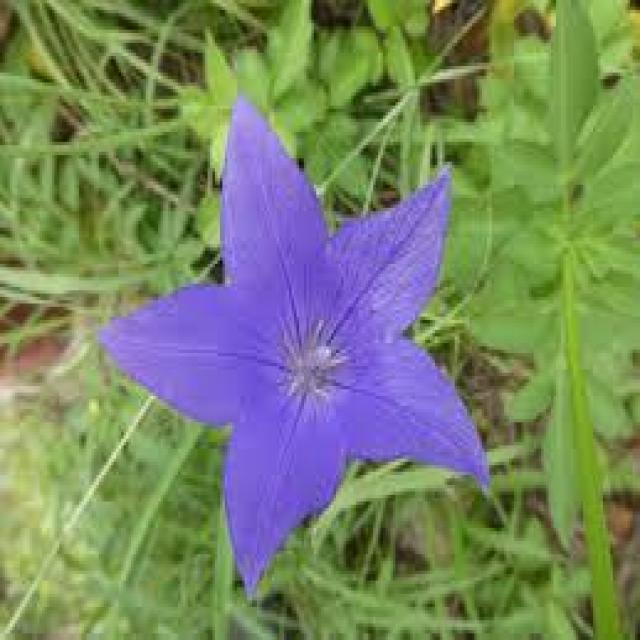organic waste: (94, 94, 492, 599)
